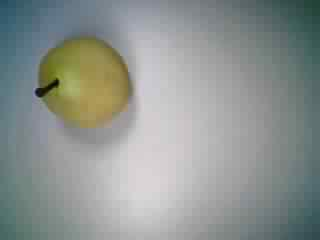pear: (22, 32, 141, 138)
